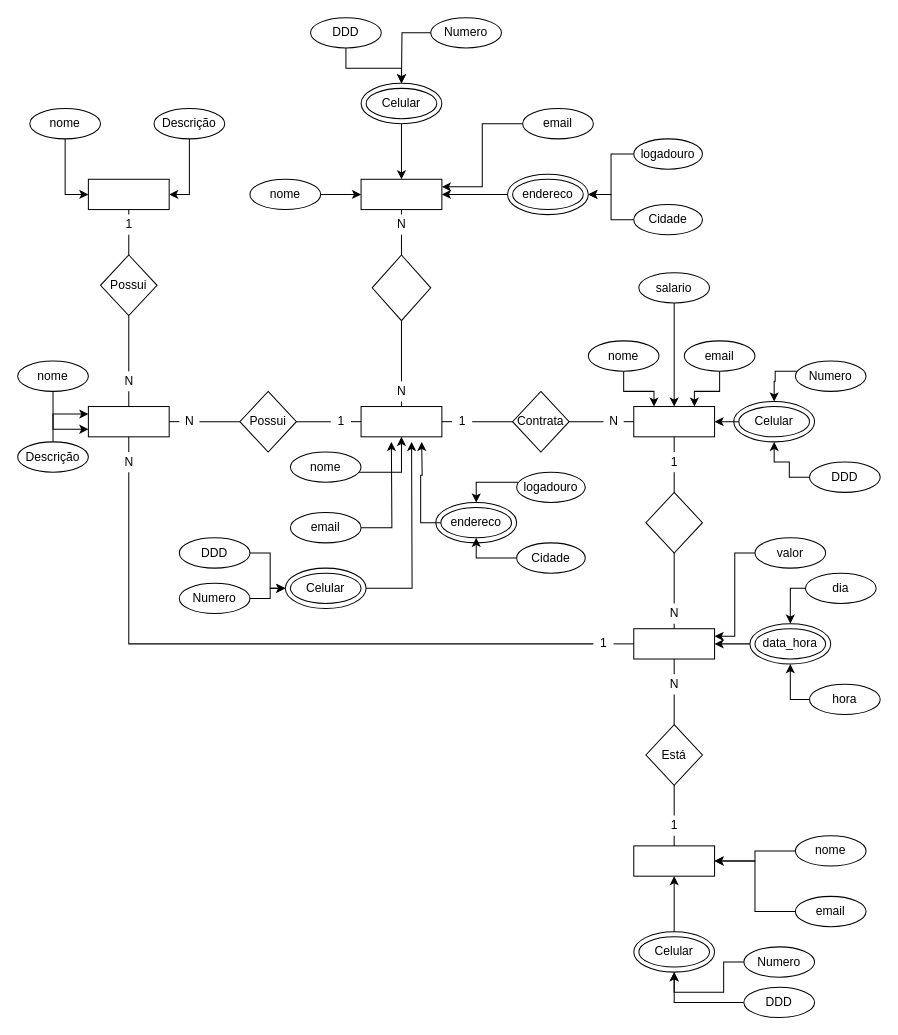
Image size: 898x1035. Some labels were removed from this diagram. Each missing label, with the centre of its shape:
"abastece" belongs at [401,287].
"Categoria" belongs at [128,194].
"Cliente" belongs at [674,860].
"efetua" belongs at [673,522].
"Filial" belongs at [401,421].
"Fornecedor" belongs at [401,194].
"Funcionário" belongs at [674,421].
"Produto" belongs at [128,421].
"Venda" belongs at [674,643].
